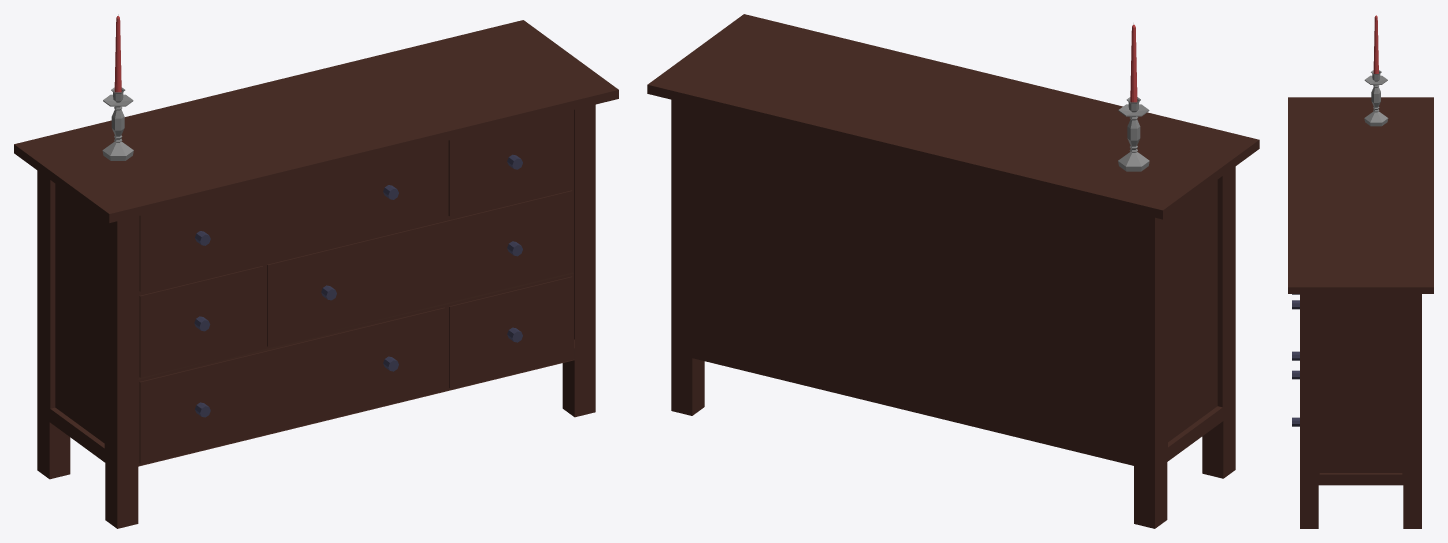
The model's file is Drawer Table.fbx.
3 renders of one model, left to right at view 1: azimuth 30°, elevation 25°; view 2: azimuth 150°, elevation 25°; view 3: azimuth 270°, elevation 25°, orthographic. The views are drawn at different scales.
Visible parts, largest first — view 1: Drawer Table; view 2: Drawer Table; view 3: Drawer Table.
Part boxes in pixels (box(x1,y1,x2,y2)): Drawer Table: box(14, 14, 618, 528); Drawer Table: box(647, 14, 1259, 528); Drawer Table: box(1288, 15, 1433, 528).
Size of the model in its own units: 206 by 180 by 66.77.
